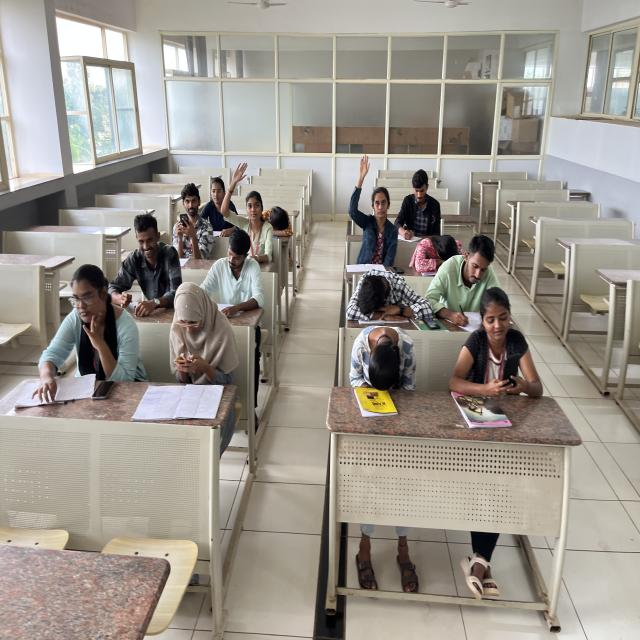Hand Rising: (339, 139, 404, 255), (221, 147, 274, 252)
Sleeping: (340, 314, 422, 390), (336, 262, 430, 326), (258, 176, 308, 258), (408, 229, 462, 274)
Using Phone: (443, 281, 563, 394), (151, 277, 232, 383), (172, 152, 215, 256)
Writing: (428, 231, 513, 329), (398, 155, 454, 245)
